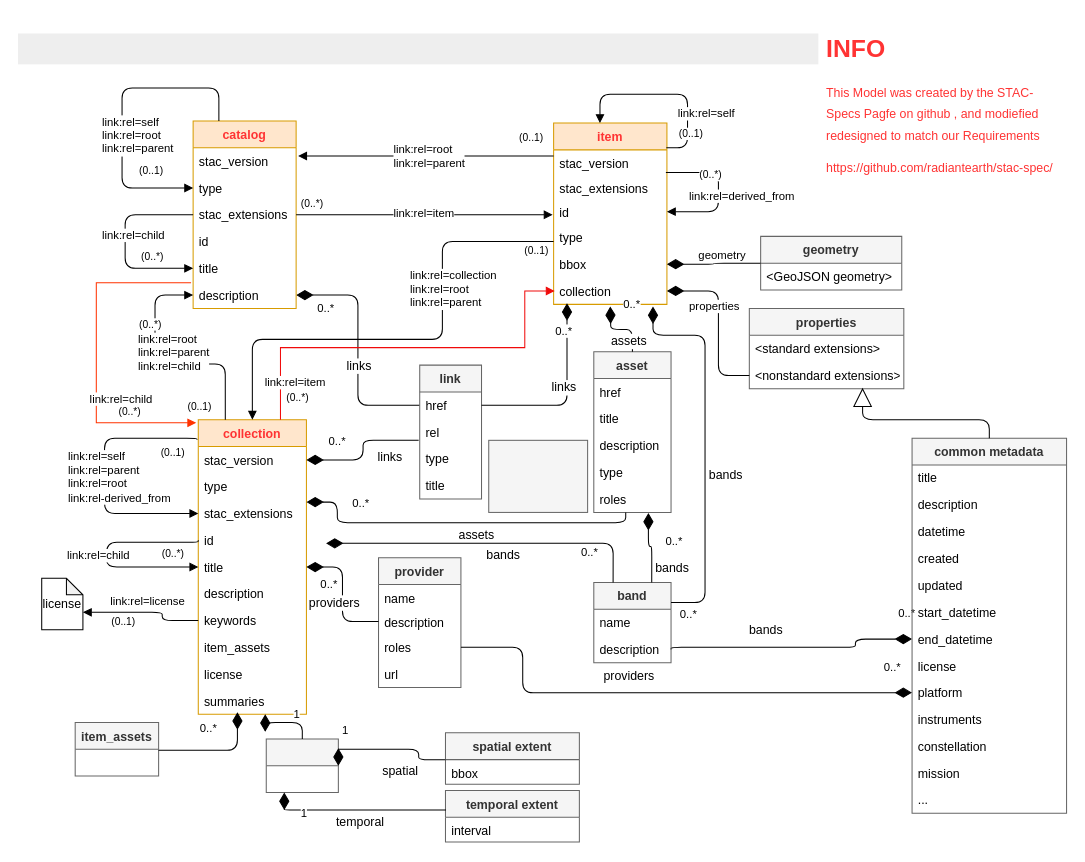
This 1085x862 diagram has some shape labels left out. Here are the shapes that lost their labels. From the top down, the centre of each, then its label:
At (418,48): "STAC 1.1.0".
At (538,475): "Standard Asset Role Types thumbnail overview data metadata".
At (301,765): "extent".
